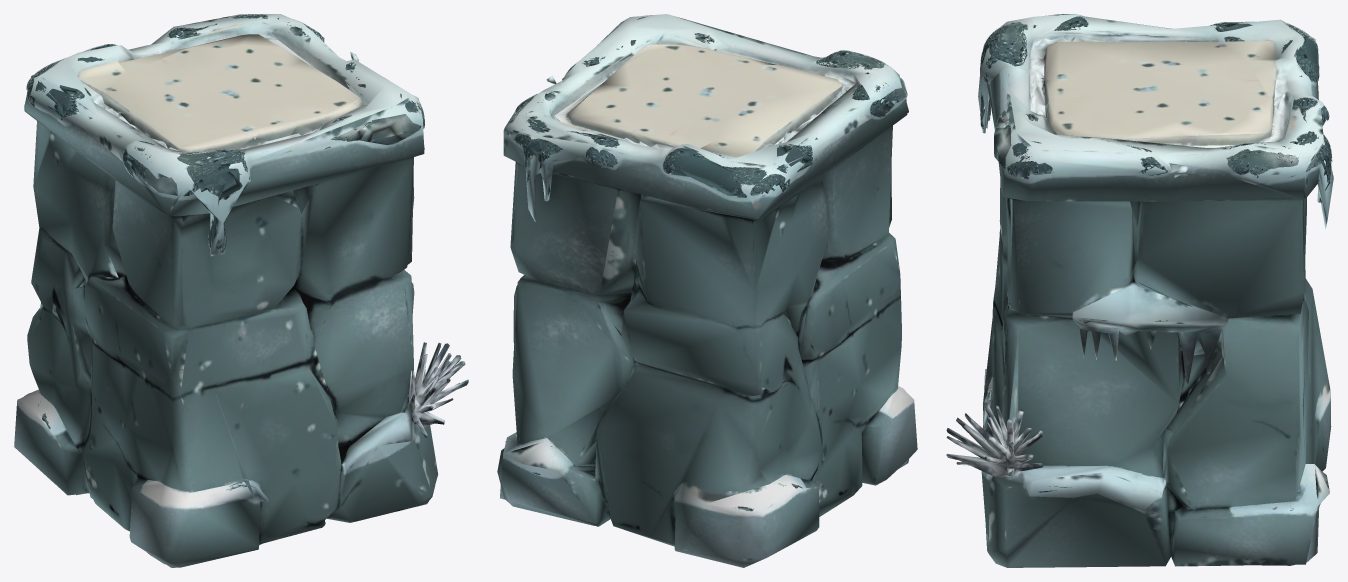
3 views of the same model, side by side, from view 1: azimuth 30°, elevation 25°; view 2: azimuth 150°, elevation 25°; view 3: azimuth 270°, elevation 25° (orthographic). The views are drawn at different scales.
Visible parts, largest first — view 1: world; view 2: world; view 3: world.
Part boxes in pixels (box(x1,y1,x2,y2)): world: box(14, 14, 468, 567); world: box(497, 14, 917, 567); world: box(946, 14, 1333, 567).
Bounding box in the file's own units: 0.8025 × 1 × 0.8255.
1 material, 1 textured.
